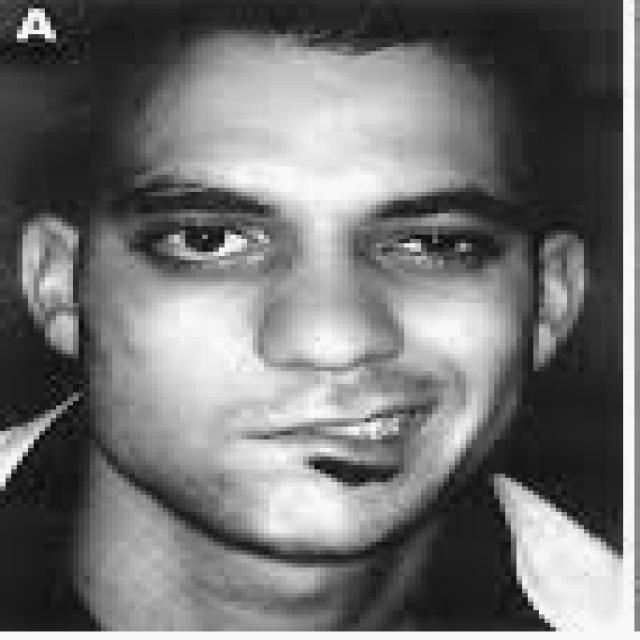stroke_face: (105, 25, 540, 568)
